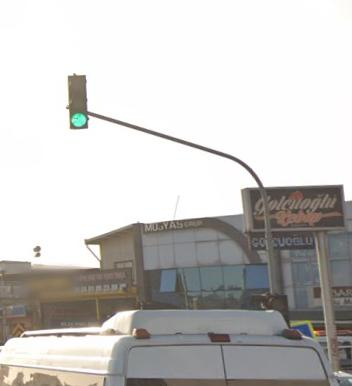greenlight: (66, 74, 89, 127)
